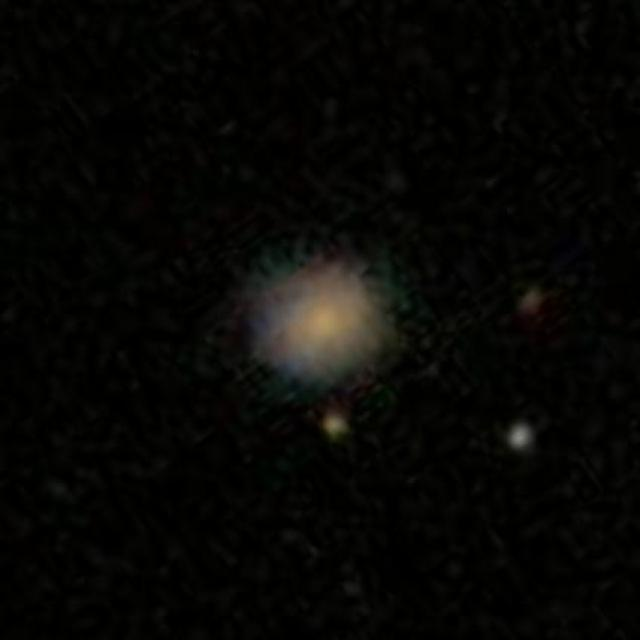galaxy: (237, 246, 427, 396), (515, 279, 552, 322), (504, 420, 540, 463), (320, 408, 352, 443)
